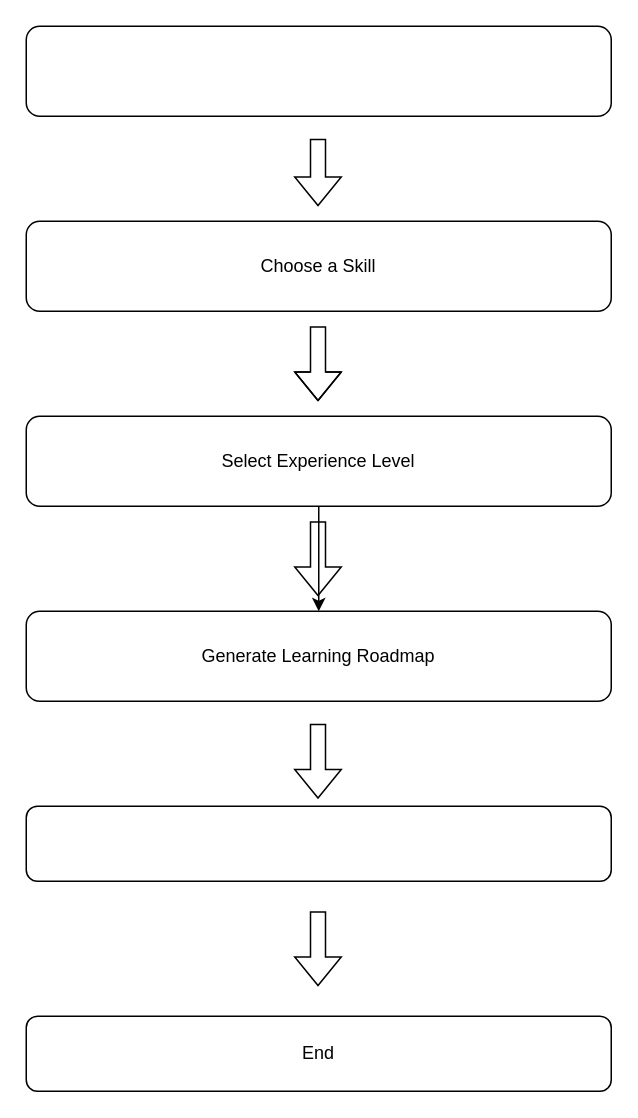
This 638x1118 diagram has some shape labels left out. The shapes that lost their labels are listed below. From the top down, each one's centre as x and y in pixels, then its label:
At [318,70]: "Start: Run AIhelp.java Start AIhelp".
At [318,843]: "Track and Save Progress".
